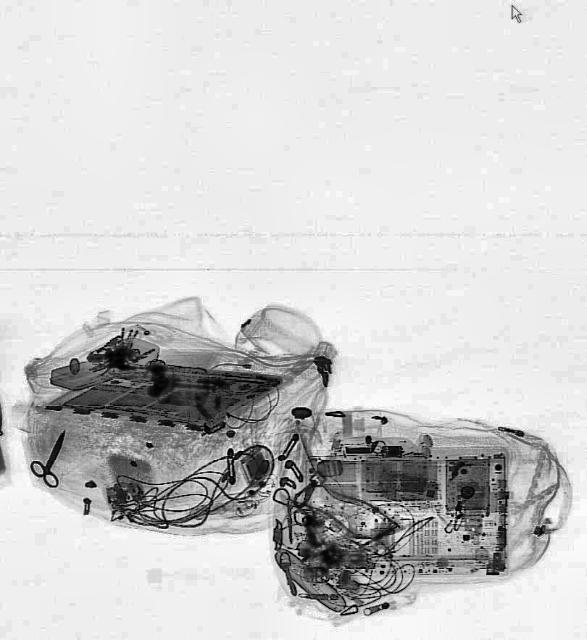Scissors: (23, 424, 78, 488)
